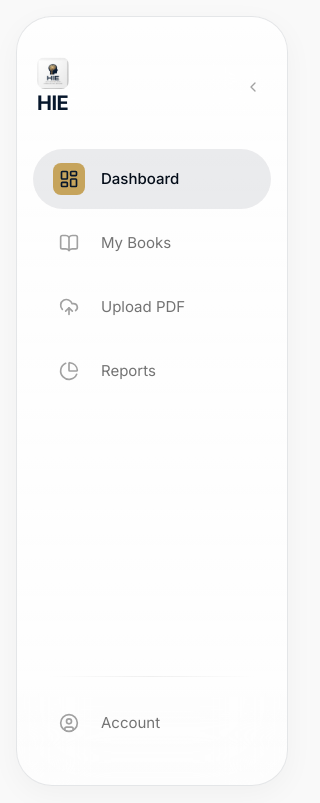
Test: Sidebar — collapse toggle › expands again on a second click
Click the button named "Collapse sidebar" at (253, 87), box x1=239 y1=73 x2=267 y2=101
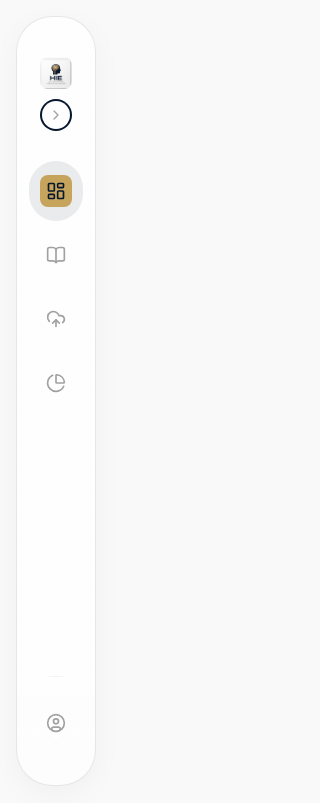
Expected: the link "My Books" is gone
Click the button named "Expand sidebar" at (56, 115), box x1=42 y1=101 x2=70 y2=129
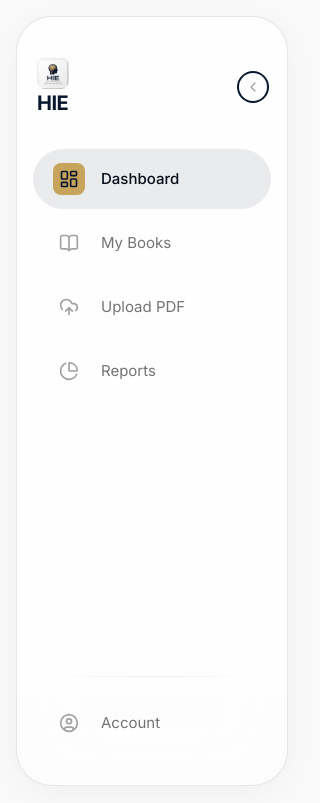
Expected: the text "My Books" is shown, x1=101 y1=232 x2=171 y2=254
